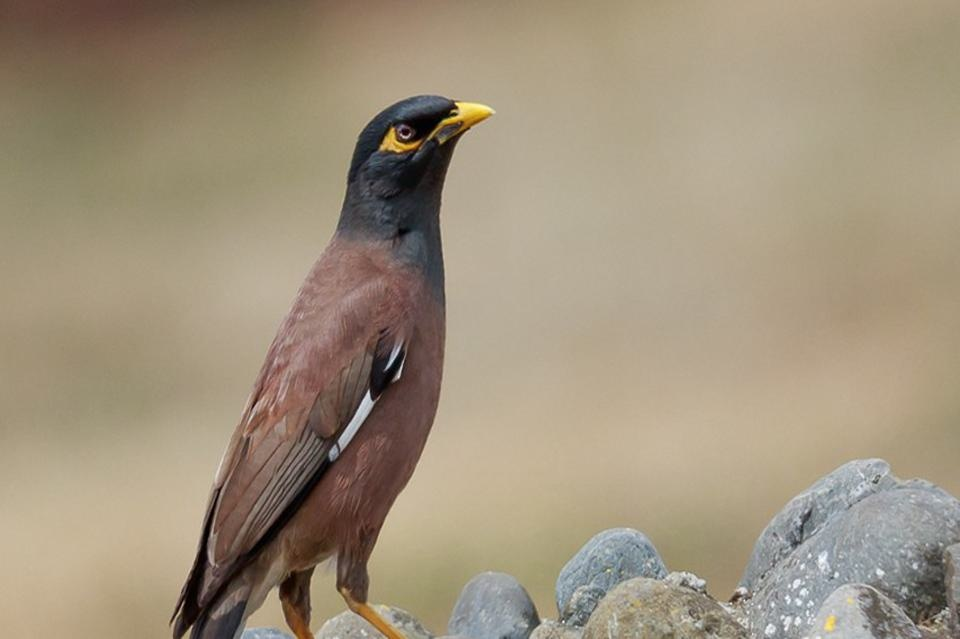myna: (131, 74, 510, 639)
